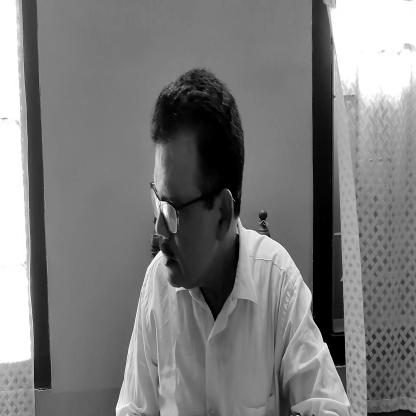Distracted: (155, 66, 236, 294)
